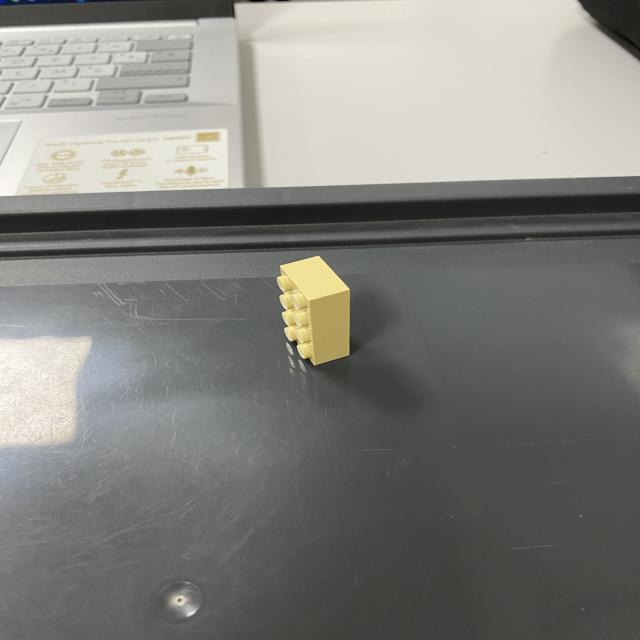C4x2x1: (308, 289, 352, 364), (283, 255, 351, 301)
